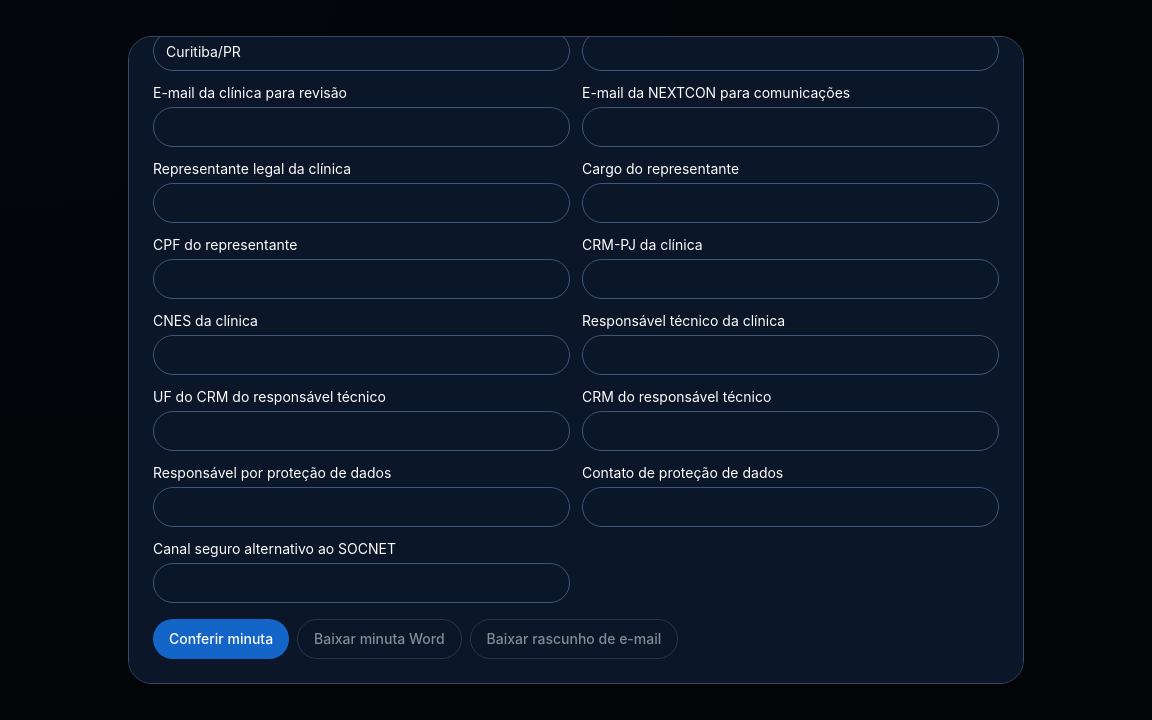
preparo do contrato por clínica › remove conteúdo e ações ao perder autorização
(page scrolled)
Click the button "Conferir minuta" at point(221, 639), box [153,619,289,659]
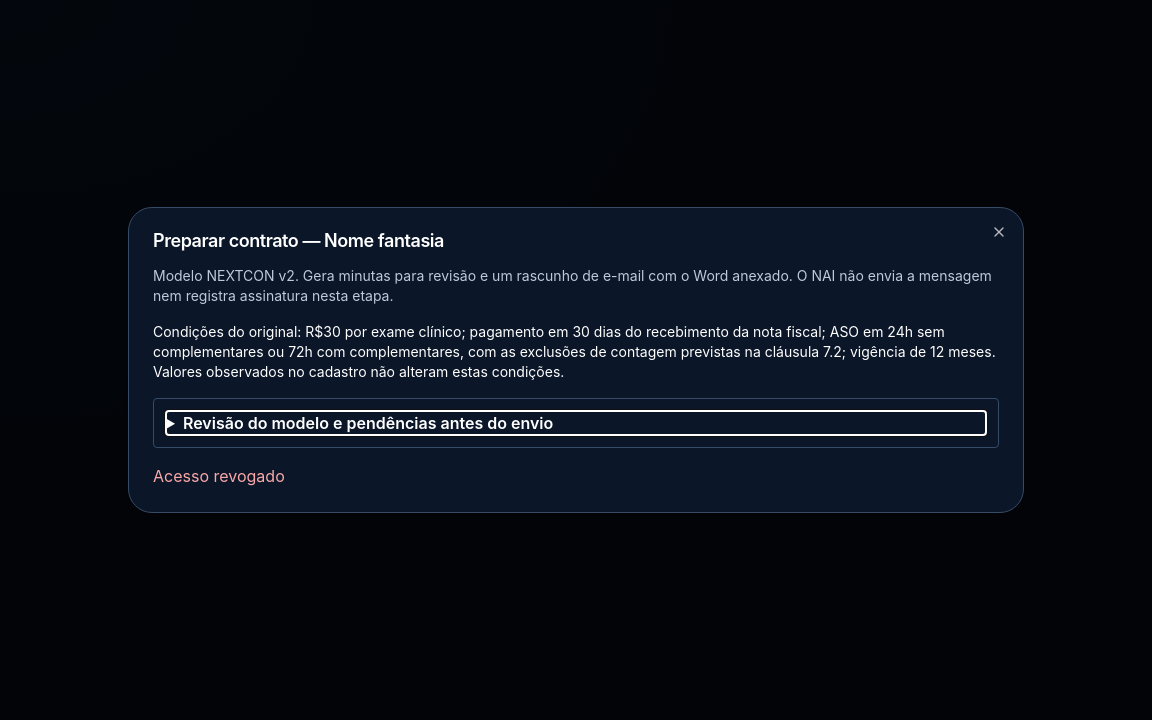
Now the text "Acesso revogado" is shown, box [153,466,285,486]
Now the text "Baixar minuta Word" is gone
